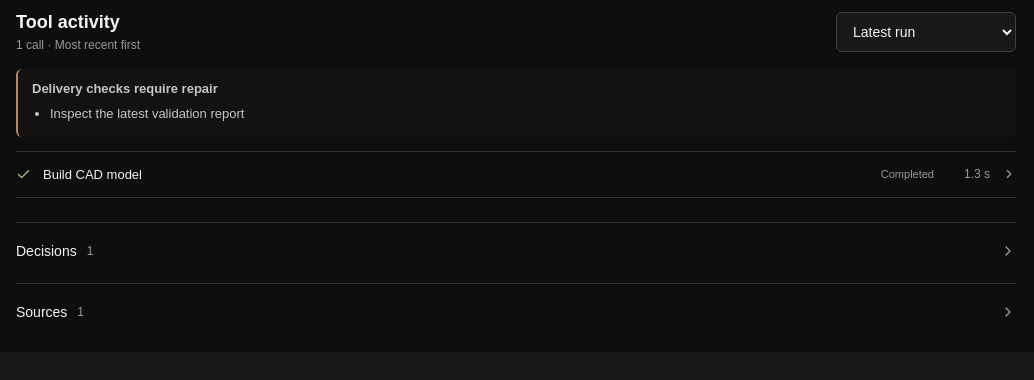
Test: execution evidence › keeps failed completion checks visible and filters tools by run
The image size is (1034, 380).
Expected: the list item "Inspect the latest validation report" is shown, [50,106,244,121]
Expected: the text "Read source" is not shown
Select "All runs" in the dropdown named "Execution run" at (926, 32), box [836,12,1016,52]
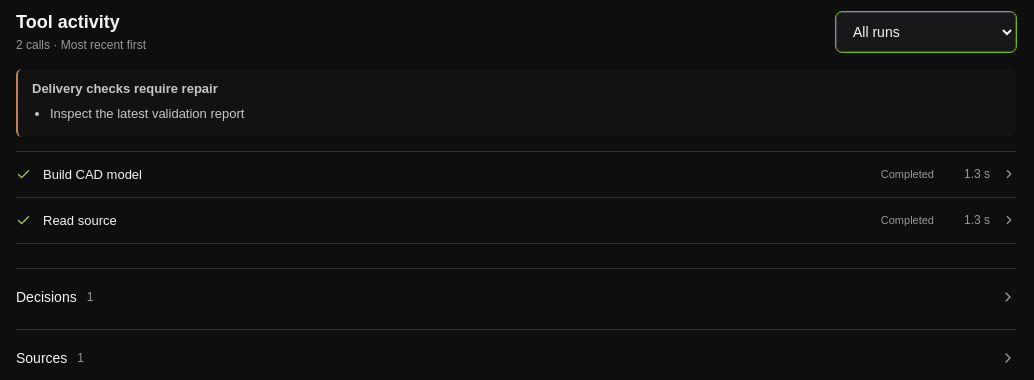
Expected: the text "Read source" is shown, [43,213,117,228]
